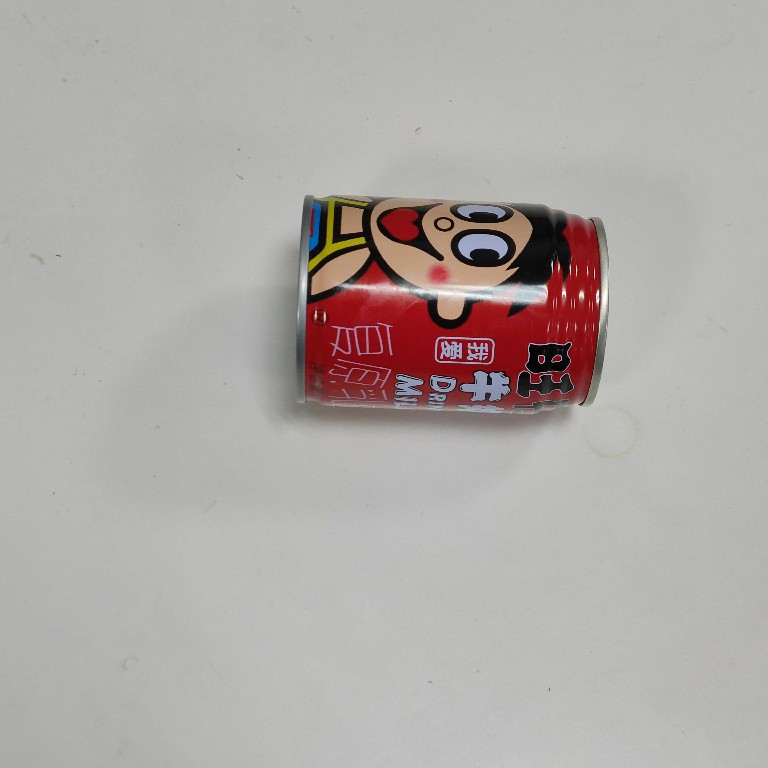can: (289, 187, 619, 426)
